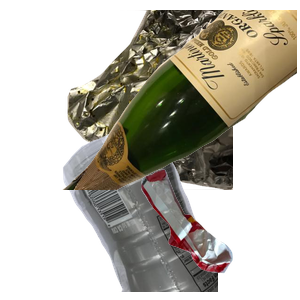glass: (60, 10, 300, 190)
metal: (60, 10, 300, 190)
plastic: (60, 120, 300, 300)
trash: (139, 167, 300, 300)
